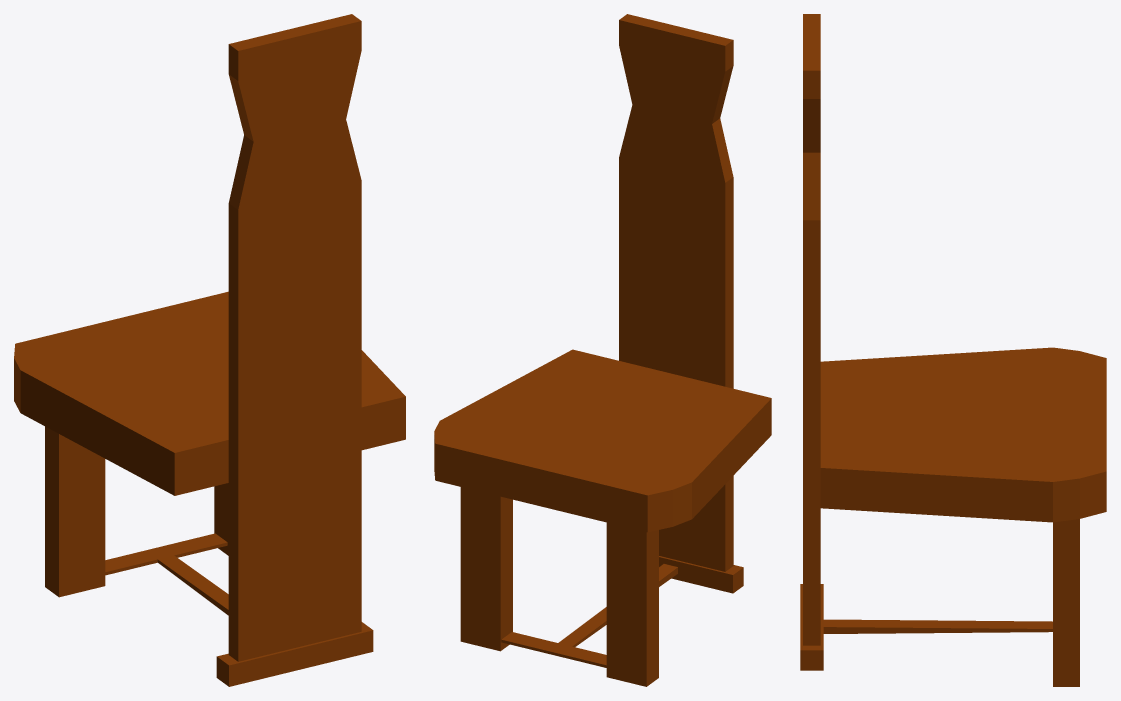
File: Chair.fbx
3 views of the same model, side by side, from view 1: azimuth 30°, elevation 25°; view 2: azimuth 150°, elevation 25°; view 3: azimuth 270°, elevation 25° (orthographic). The views are drawn at different scales.
Parts seen in each view (by area): view 1: Cube; view 2: Cube; view 3: Cube.
Boxes of the visible parts, box(x1,y1,x2,y2) form: Cube: box(14, 14, 405, 686); Cube: box(434, 14, 771, 686); Cube: box(800, 14, 1106, 686).
Bounding box in the file's own units: 71.25 × 147 × 68.6.
